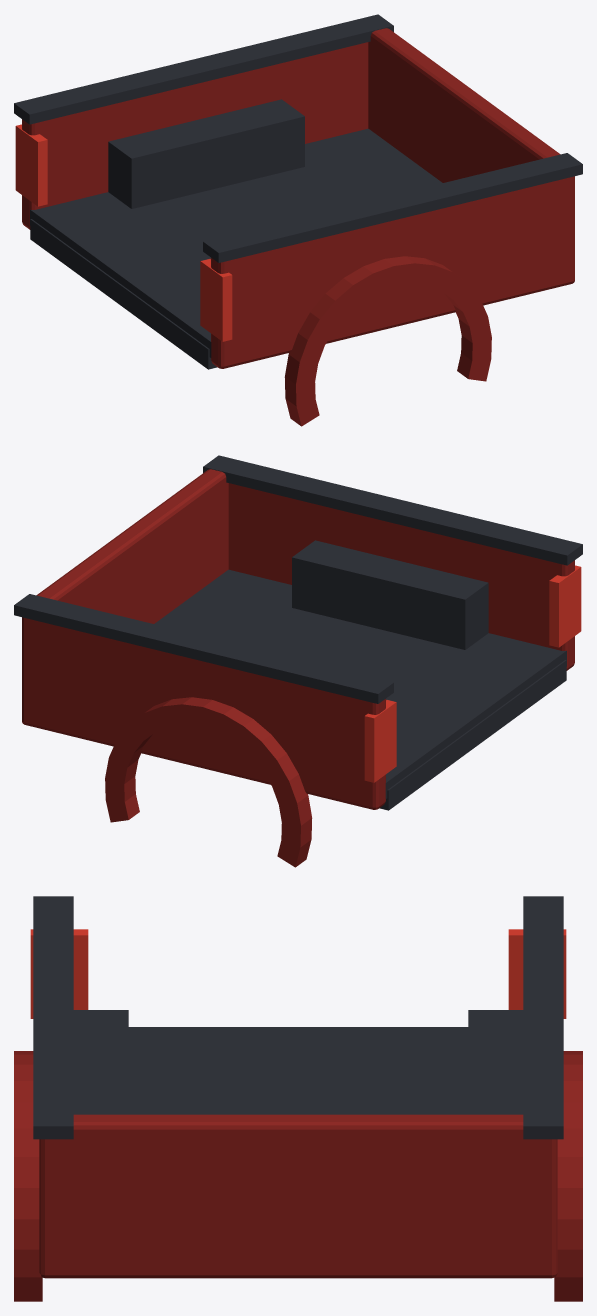
The model's file is bed.obj.
3 renders of one model, top to bottom at view 1: azimuth 30°, elevation 25°; view 2: azimuth 150°, elevation 25°; view 3: azimuth 270°, elevation 25°, orthographic. The views are drawn at different scales.
Visible parts, largest first — view 1: arch; view 2: arch; view 3: arch.
Boxes of the visible parts, x1,y1,x2,y2 form: arch: (14, 14, 582, 426); arch: (14, 455, 582, 867); arch: (14, 896, 582, 1301).
Bounding box in the file's own units: 1.89 × 0.9244 × 1.98.
